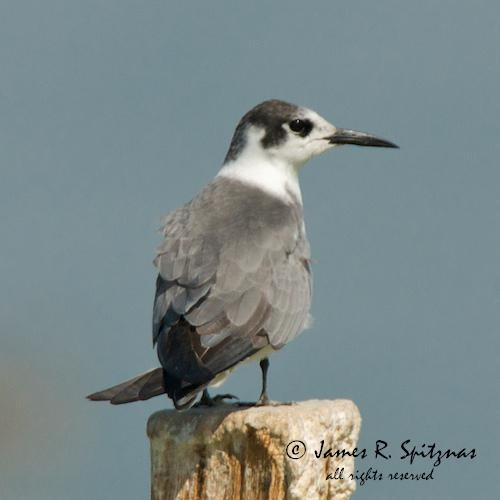bird: (94, 96, 402, 412)
